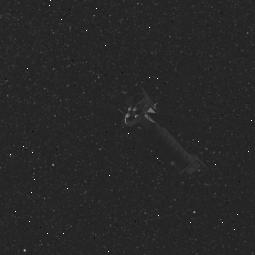xmm_newton: (93, 78, 219, 180)
